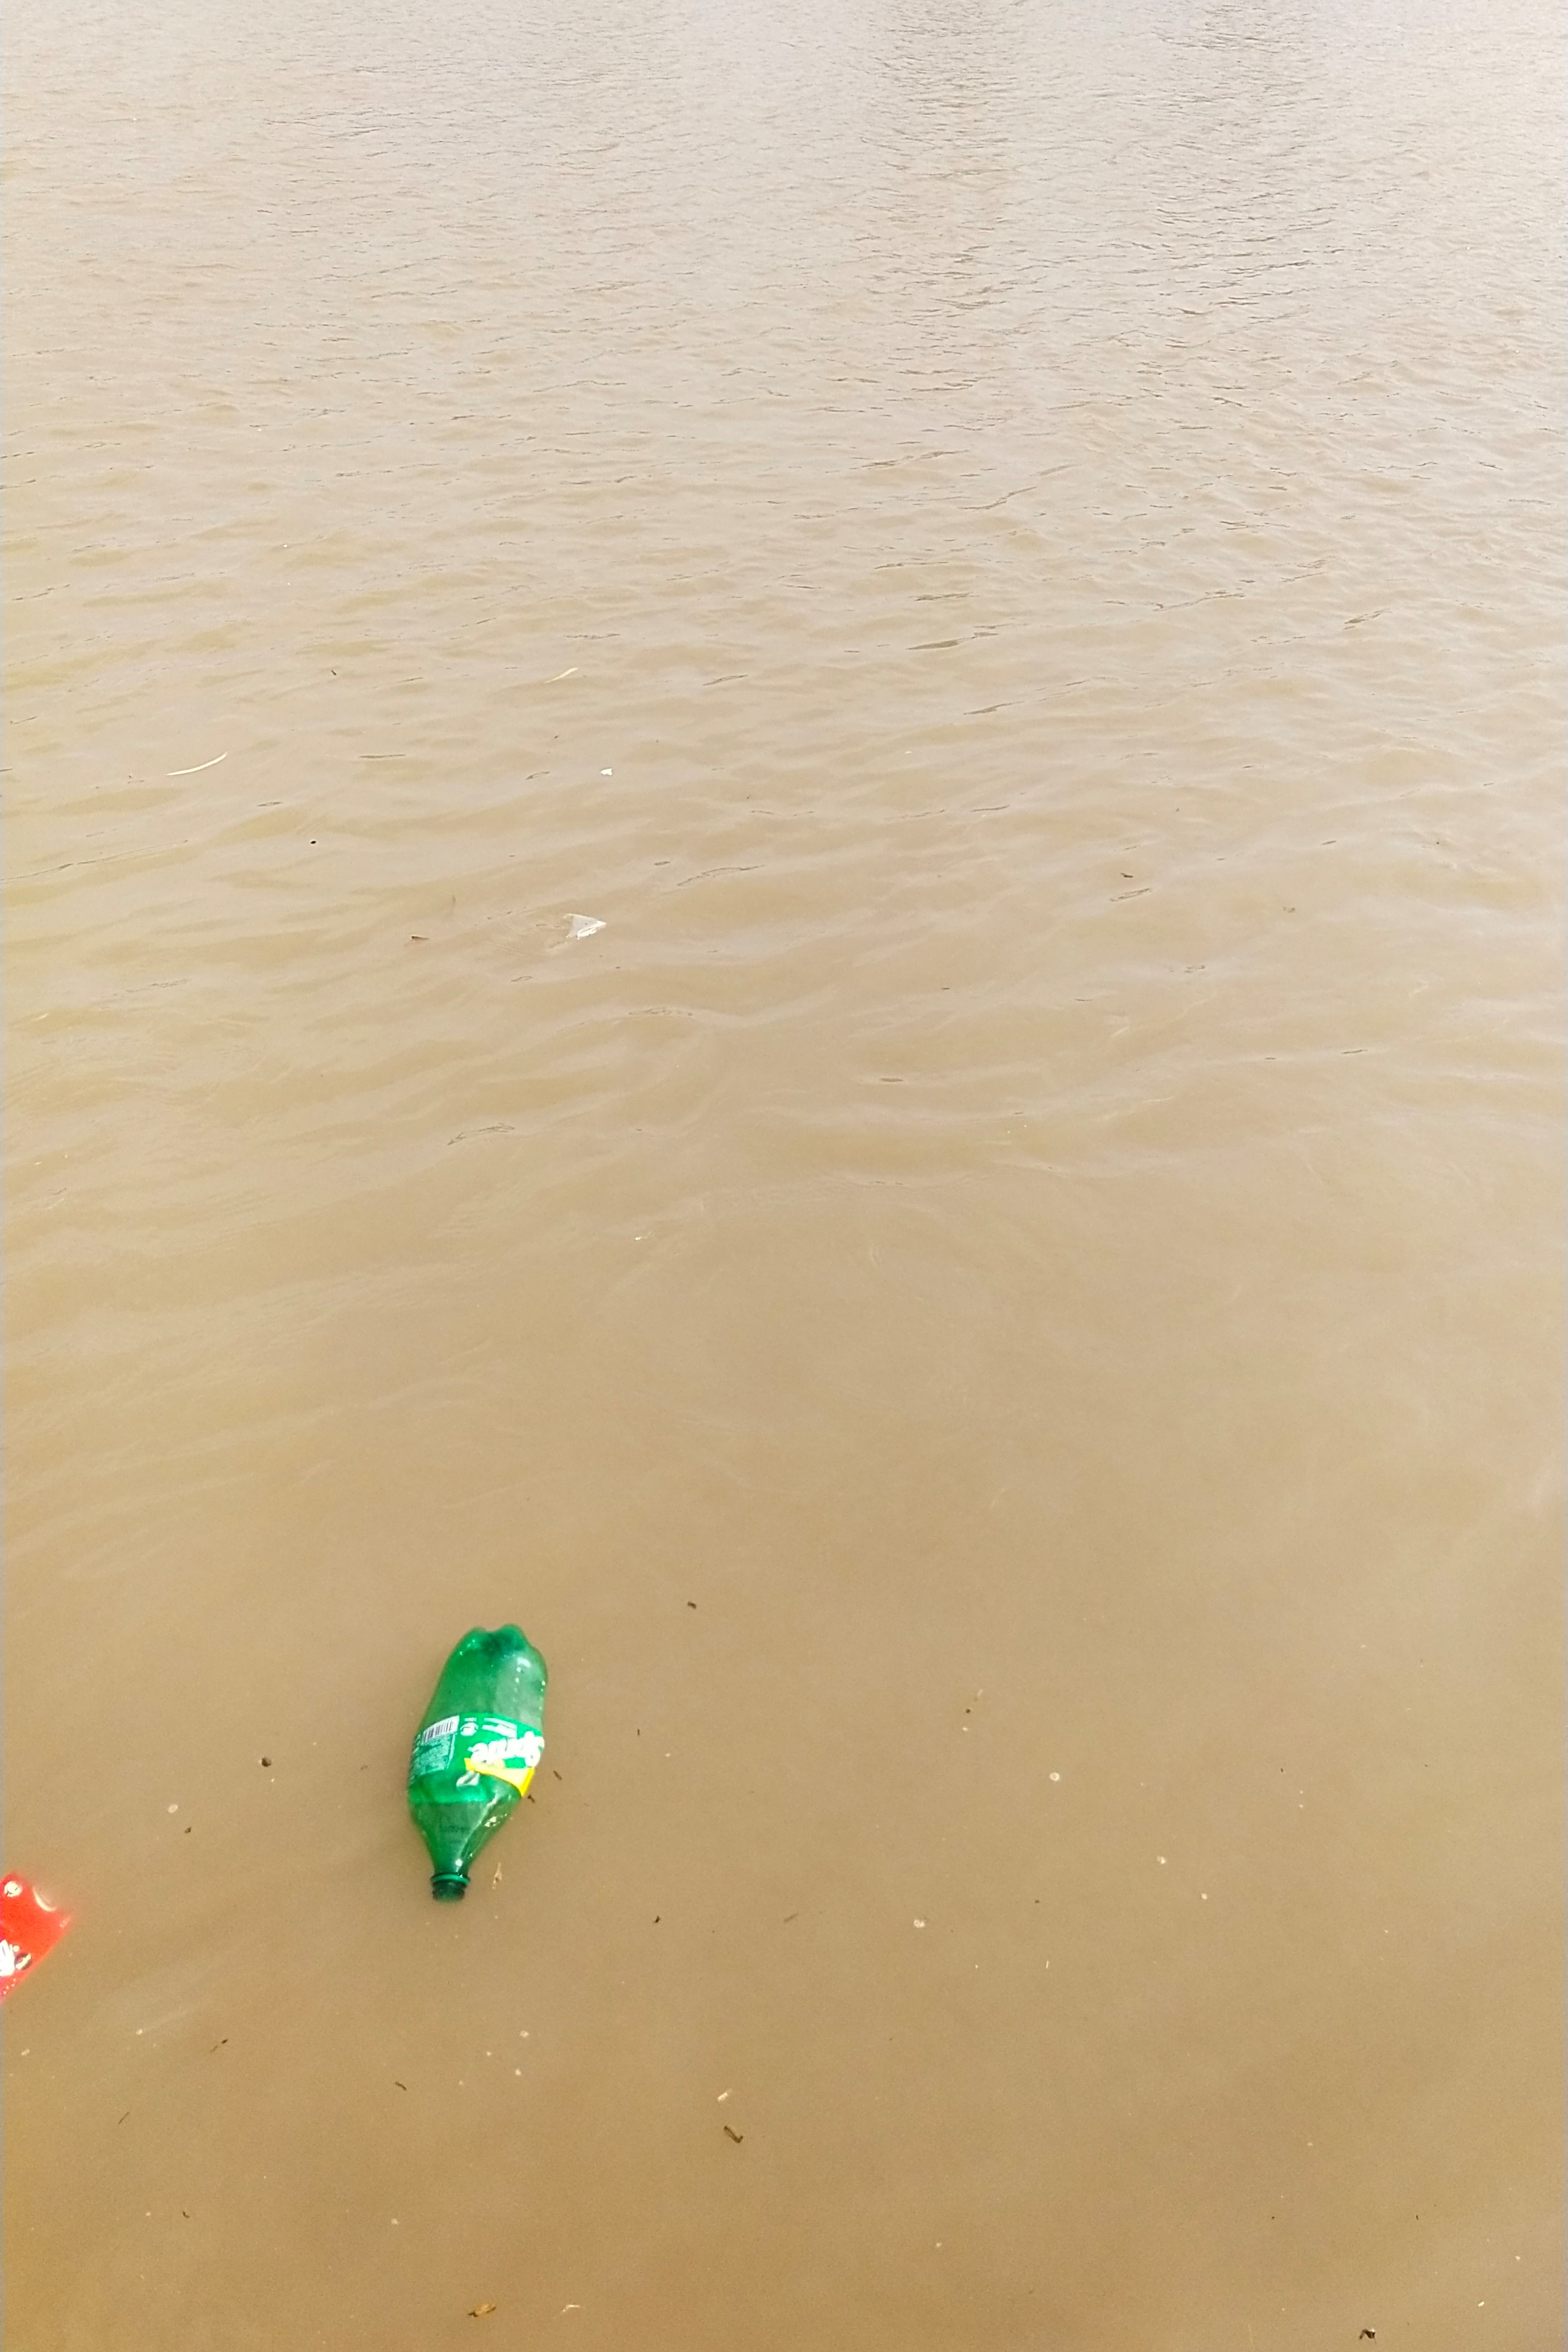Plastic Bottle: (406, 1622, 548, 1902)
